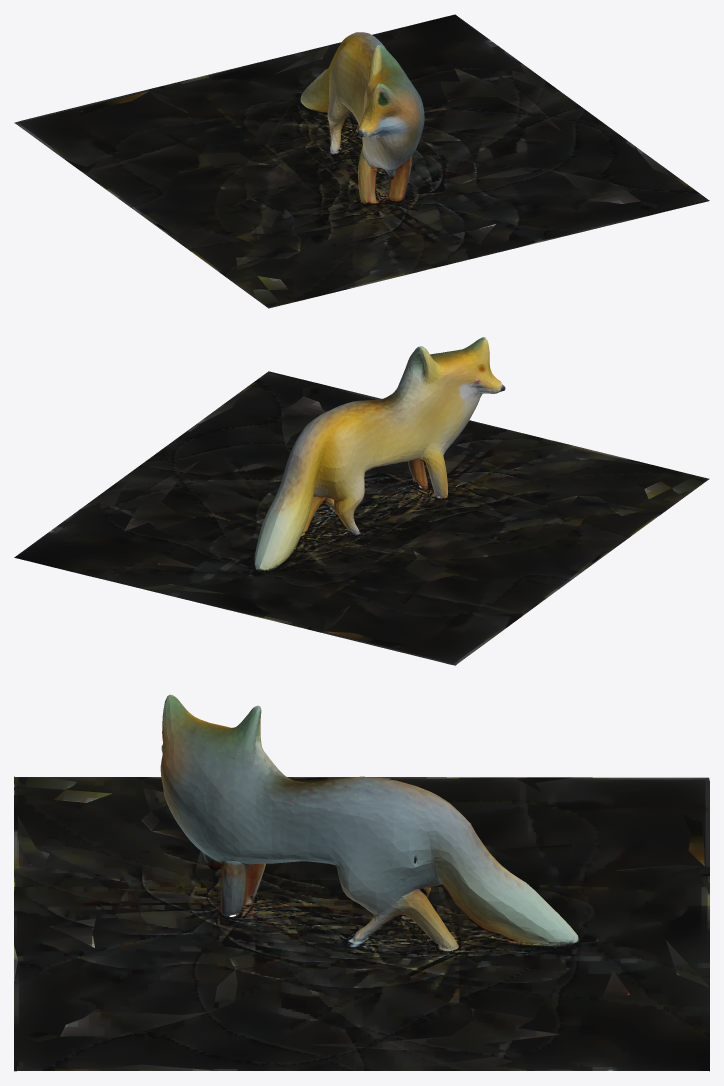
Rendered from trellis_result.glb.
3 renders of one model, top to bottom at view 1: azimuth 30°, elevation 25°; view 2: azimuth 150°, elevation 25°; view 3: azimuth 270°, elevation 25°, orthographic. The views are drawn at different scales.
Parts seen in each view (by area): view 1: world; view 2: world; view 3: world.
Part boxes in pixels (x1=…): world: x1=14, y1=14, x2=709, y2=308; world: x1=14, y1=337, x2=709, y2=665; world: x1=14, y1=694, x2=709, y2=1071.
Bounding box in the file's own units: 1 × 0.329 × 1.
Materials: 1 (1 with a texture image).
